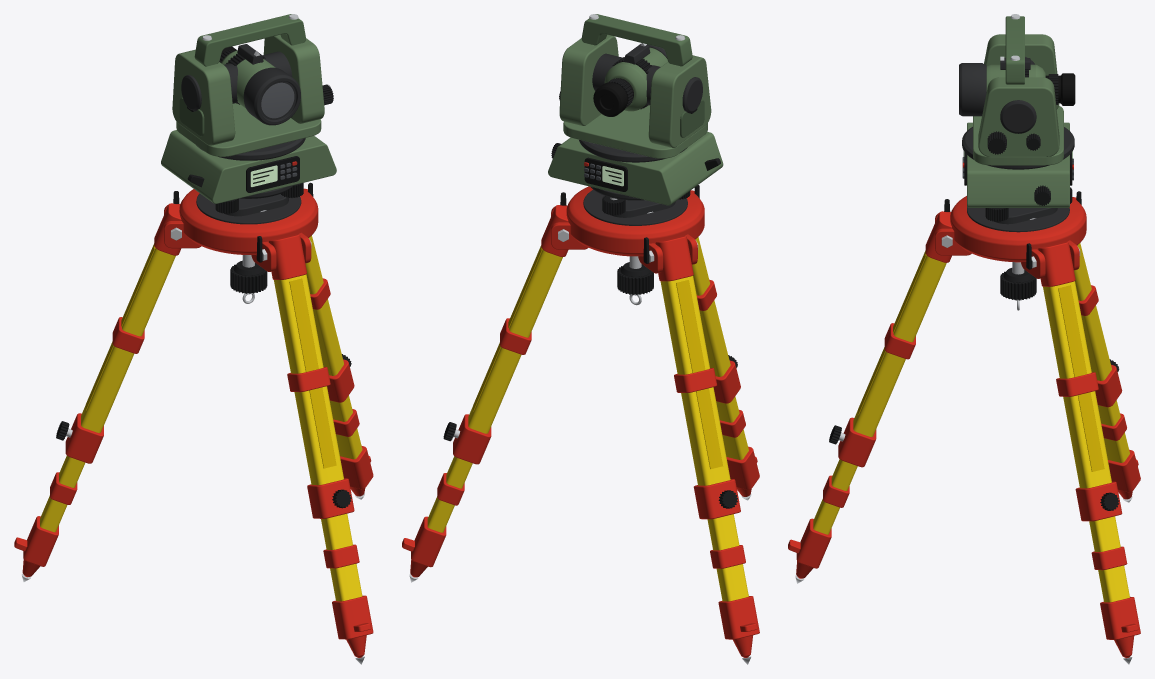
Rendered from TS_Classic.glb.
3 views of the same model, side by side, from view 1: azimuth 30°, elevation 25°; view 2: azimuth 150°, elevation 25°; view 3: azimuth 270°, elevation 25° (orthographic).
Visible parts, largest first — view 1: Body_Lower, Leg_A_Upper, Tripod_Head, Leg_C_Upper, Standard_L, Alidade_Base, Standard_R, Telescope_Hood, Handle, Leg_A_Groove, Leg_B_Upper, Leg_A_Lower (+25 smaller); view 2: Body_Lower, Leg_C_Upper, Tripod_Head, Leg_B_Upper, Standard_L, Alidade_Base, Standard_R, Handle, Leg_C_Groove, Leg_A_Upper, Leg_C_Lower, Tripod_Head_Top (+25 smaller); view 3: Standard_R, Body_Lower, Leg_B_Upper, Tripod_Head, Leg_A_Upper, Leg_B_Groove, Leg_C_Upper, Leg_B_Lower, Standard_L, Telescope_Hood, Alidade_Base, Handle (+21 smaller).
Part boxes in pixels (x1,y1,x2,y2): Body_Lower: [161, 130, 336, 203]; Leg_A_Upper: [274, 274, 343, 485]; Tripod_Head: [179, 189, 318, 254]; Leg_C_Upper: [81, 248, 175, 432]; Standard_L: [172, 49, 235, 145]; Alidade_Base: [176, 103, 321, 156]; Standard_R: [263, 34, 324, 123]; Telescope_Hood: [243, 67, 300, 125]; Handle: [194, 14, 305, 66]; Leg_A_Groove: [289, 278, 336, 468]; Leg_B_Upper: [305, 235, 343, 375]; Leg_A_Lower: [321, 513, 362, 601]; Body_Lower: [548, 132, 723, 205]; Leg_C_Upper: [660, 275, 730, 485]; Tripod_Head: [566, 186, 704, 256]; Leg_B_Upper: [468, 249, 562, 433]; Standard_L: [648, 55, 711, 147]; Alidade_Base: [563, 105, 707, 158]; Standard_R: [559, 34, 618, 125]; Handle: [581, 14, 692, 66]; Leg_C_Groove: [676, 280, 722, 469]; Leg_A_Upper: [692, 237, 730, 376]; Leg_C_Lower: [707, 514, 748, 601]; Tripod_Head_Top: [583, 189, 687, 225]; Standard_R: [978, 77, 1059, 156]; Body_Lower: [967, 122, 1069, 207]; Leg_B_Upper: [1043, 281, 1111, 488]; Tripod_Head: [950, 196, 1086, 262]; Leg_A_Upper: [853, 255, 946, 436]; Leg_B_Groove: [1058, 285, 1104, 471]; Leg_C_Upper: [1074, 243, 1111, 380]; Leg_B_Lower: [1089, 516, 1129, 602]; Standard_L: [984, 34, 1059, 109]; Telescope_Hood: [959, 63, 986, 116]; Alidade_Base: [973, 106, 1063, 165]; Handle: [1005, 16, 1024, 84].
Size of the model in its own units: 134 by 200 by 117.
